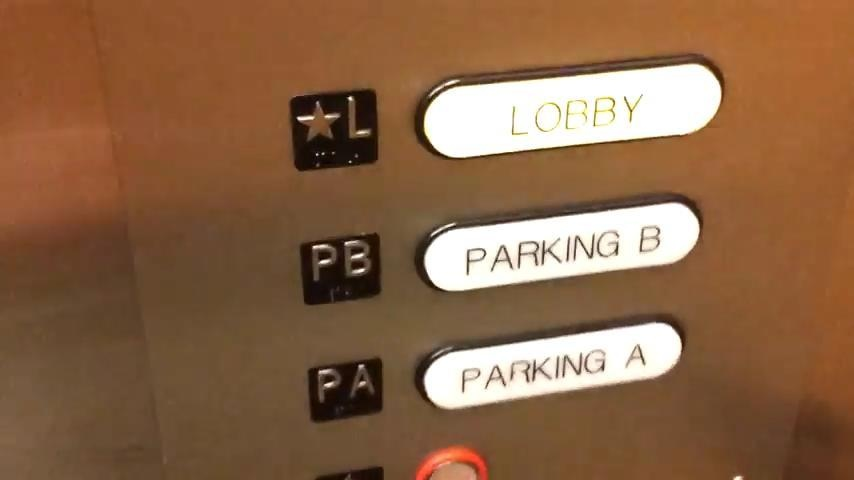PA: (306, 355, 386, 424)
PB: (295, 230, 385, 308)
sL: (286, 85, 384, 172)
